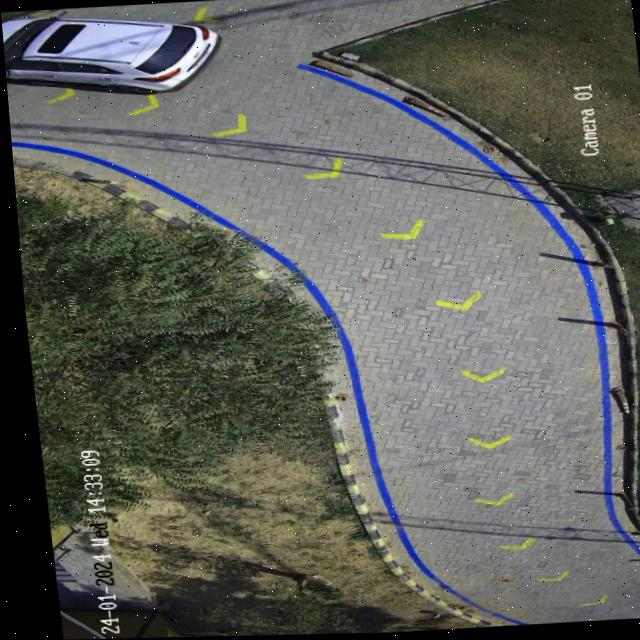car: (1, 14, 218, 94)
